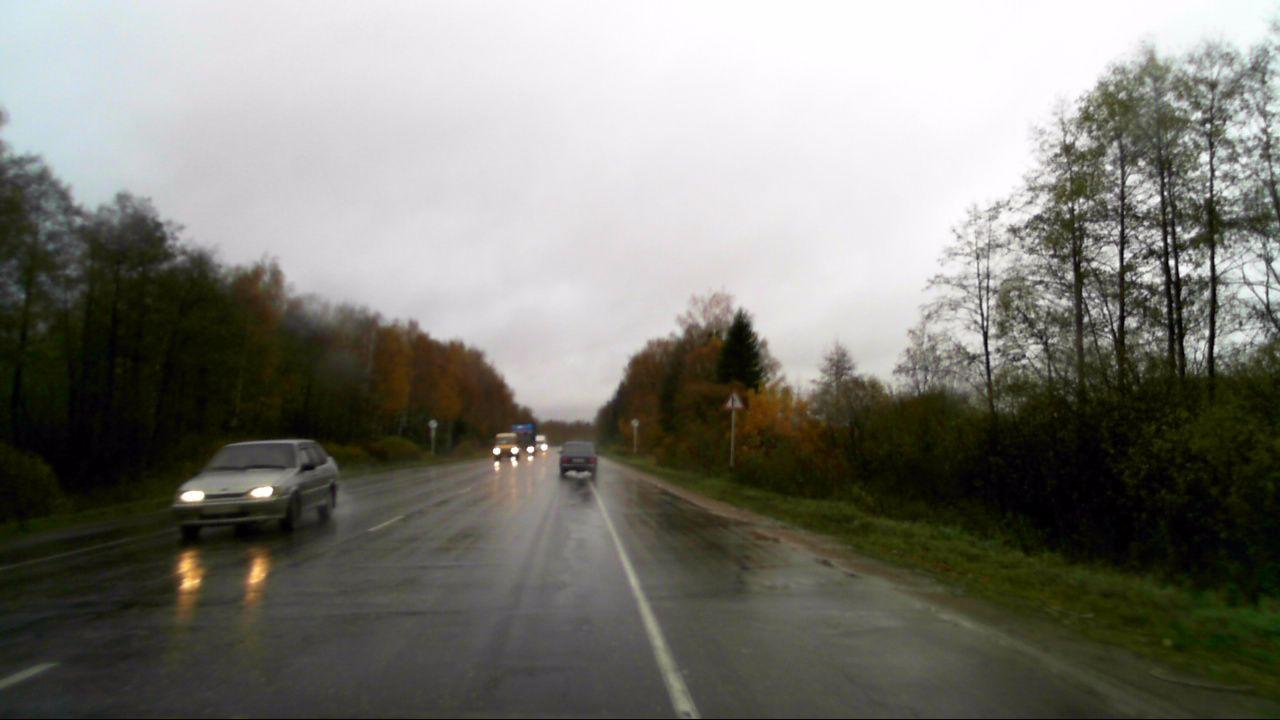road_sign: (720, 387, 746, 409)
